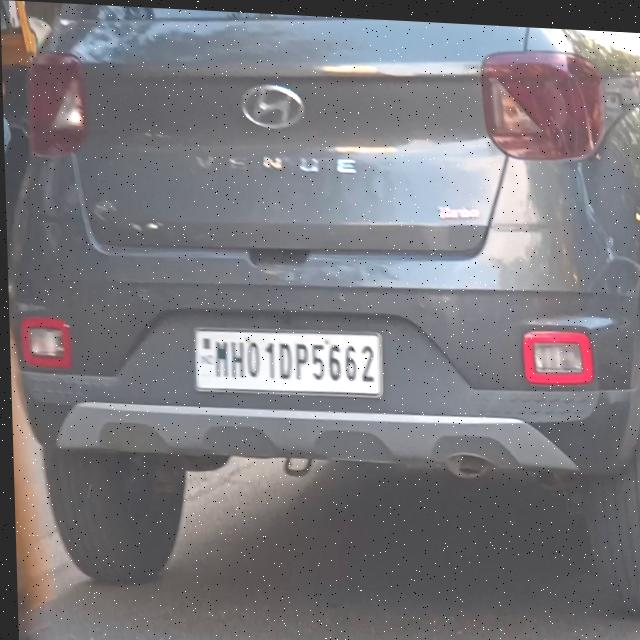plate: (189, 321, 382, 395)
